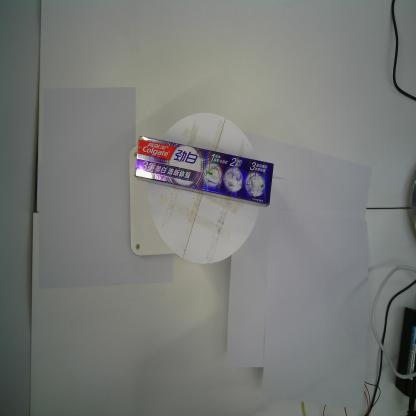Personal Hygiene: (132, 134, 274, 206)
